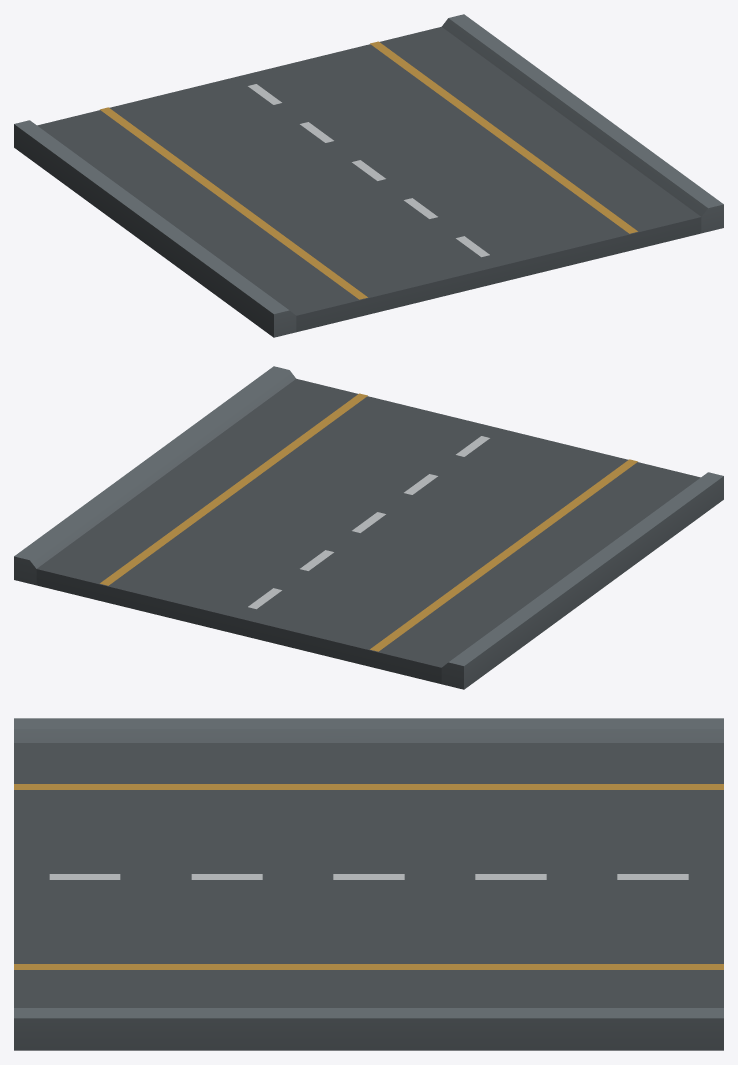
The model's file is city-road-straight.glb.
3 views of the same model, one above another, from view 1: azimuth 30°, elevation 25°; view 2: azimuth 150°, elevation 25°; view 3: azimuth 270°, elevation 25° (orthographic). The views are drawn at different scales.
Parts seen in each view (by area): view 1: road_straight; view 2: road_straight; view 3: road_straight.
Part boxes in pixels (<box>): road_straight: <box>14,14,723,337</box>; road_straight: <box>14,366,723,689</box>; road_straight: <box>14,718,723,1050</box>.
Size of the model in its own units: 2 by 0.1 by 2.
